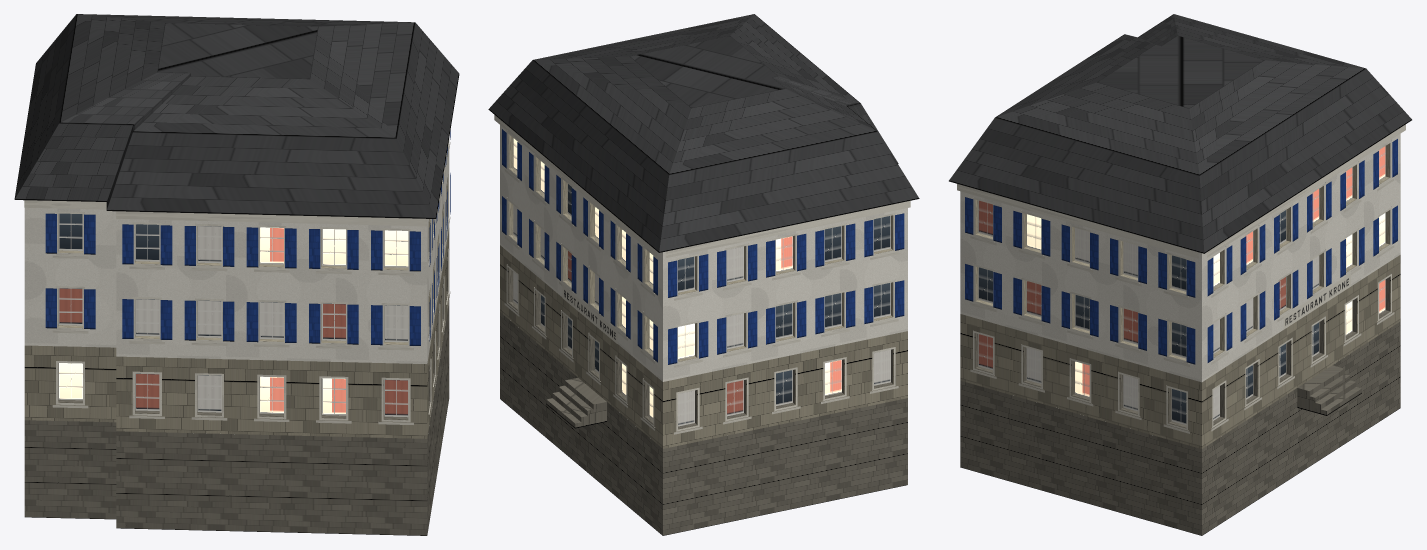
Rendered from k39w3_krone.glb.
3 views of the same model, side by side, from view 1: azimuth 30°, elevation 25°; view 2: azimuth 150°, elevation 25°; view 3: azimuth 270°, elevation 25° (orthographic). The views are drawn at different scales.
Visible parts, largest first — view 1: k39w3_krone; view 2: k39w3_krone; view 3: k39w3_krone.
Boxes of the visible parts, x1,y1,x2,y2 form: k39w3_krone: [14, 14, 459, 535]; k39w3_krone: [488, 14, 919, 535]; k39w3_krone: [949, 14, 1411, 535].
Size of the model in its own units: 19.47 by 16.5 by 18.9.
Materials: 3 (3 with a texture image).
